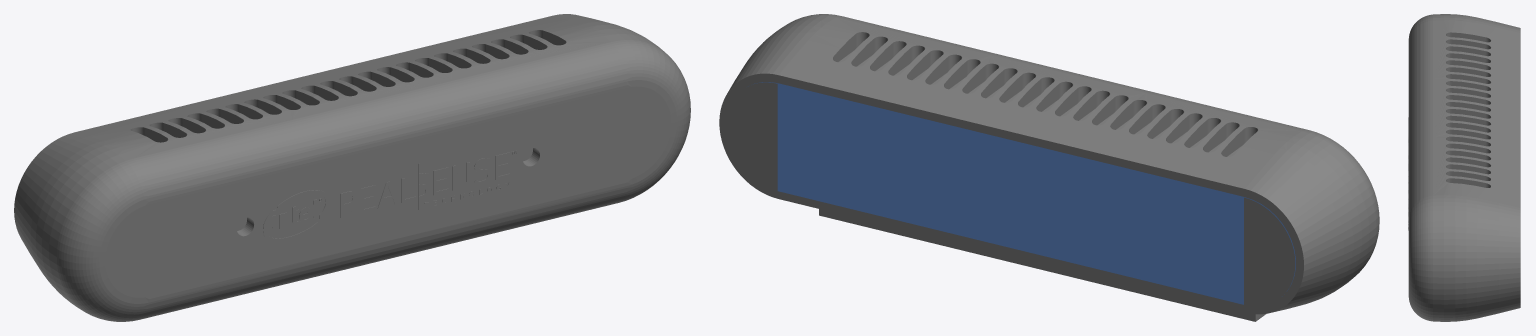
File: realsense_camera.dae
3 renders of one model, left to right at view 1: azimuth 30°, elevation 25°; view 2: azimuth 150°, elevation 25°; view 3: azimuth 270°, elevation 25°, orthographic. The views are drawn at different scales.
Visible parts, largest first — view 1: realsense D415; view 2: realsense D415; view 3: realsense D415.
Part boxes in pixels (x1,y1,x2,y2): realsense D415: (14, 14, 690, 321); realsense D415: (719, 14, 1379, 321); realsense D415: (1408, 14, 1520, 321).
Bounding box in the file's own units: 0.0994 × 0.0206 × 0.0243.
